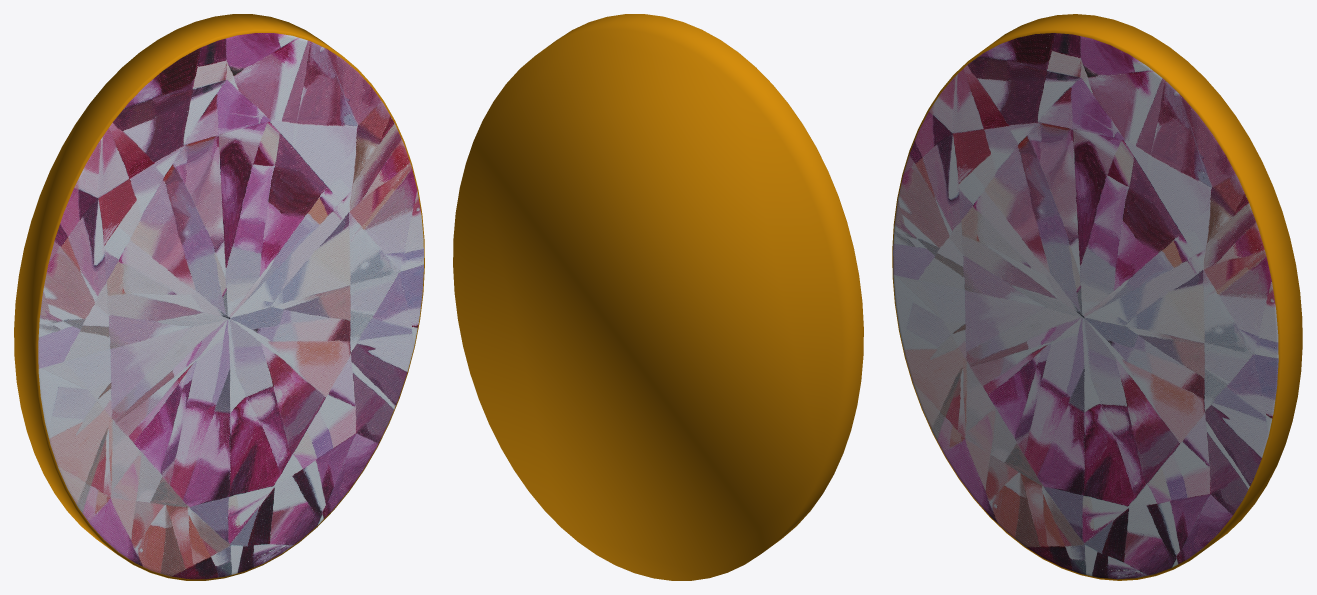
File: ava.glb
3 views of the same model, side by side, from view 1: azimuth 30°, elevation 25°; view 2: azimuth 150°, elevation 25°; view 3: azimuth 330°, elevation 25° (orthographic).
Visible parts, largest first — view 1: ava; view 2: ava; view 3: ava.
Boxes of the visible parts, x1,y1,x2,y2 form: ava: (14,14,424,580); ava: (453,14,863,580); ava: (892,14,1302,580).
Bounding box in the file's own units: 0.3 × 0.4 × 0.03.
Materials: 2 (1 with a texture image).
